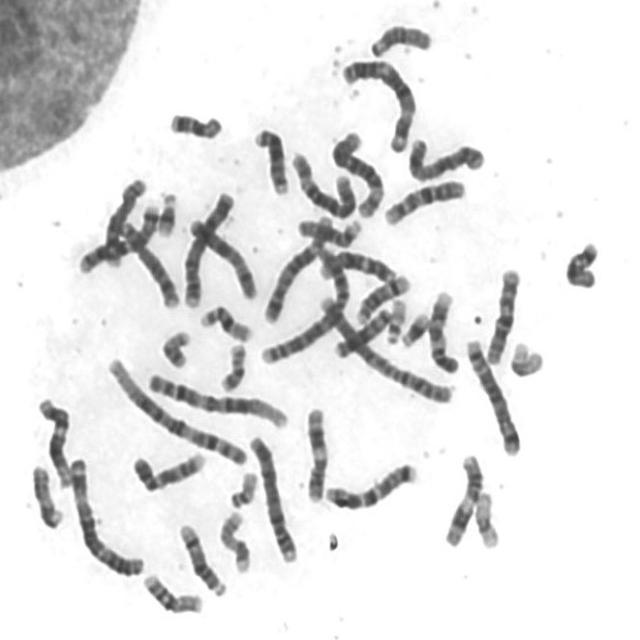A1: (102, 349, 252, 469), (142, 364, 292, 432)
A2: (313, 288, 458, 406), (258, 237, 354, 366)
A3: (65, 450, 149, 578), (338, 51, 420, 153)
B4: (245, 429, 302, 565), (178, 185, 237, 309)
B5: (259, 210, 336, 324), (462, 331, 525, 457)
C10: (380, 174, 470, 228), (482, 260, 525, 367)
C11: (441, 447, 487, 549), (300, 400, 332, 504)
C12: (34, 391, 76, 489), (313, 241, 400, 285)
C6: (328, 124, 388, 219), (287, 144, 360, 220)
C7: (74, 197, 164, 276), (321, 455, 421, 512)
C8: (114, 212, 183, 310), (97, 169, 150, 271)
C9: (128, 444, 209, 494), (424, 283, 464, 375)
D13: (330, 302, 396, 360), (249, 120, 292, 196)
D14: (176, 516, 230, 598), (352, 268, 414, 325)
D15: (366, 16, 437, 59), (293, 212, 365, 248)
E16: (140, 566, 207, 616), (196, 298, 256, 344)
E17: (27, 459, 67, 530), (216, 505, 255, 575)
E18: (561, 234, 603, 291), (166, 105, 227, 141)
F19: (471, 484, 504, 551), (506, 334, 548, 379)
F20: (216, 336, 250, 393), (156, 323, 194, 370)
G21: (396, 305, 434, 349), (153, 184, 181, 238)
G22: (382, 291, 412, 346), (226, 465, 262, 510)
X: (183, 210, 261, 302), (404, 132, 489, 184)
